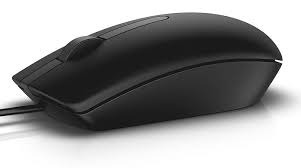mouse: (12, 11, 287, 135)
